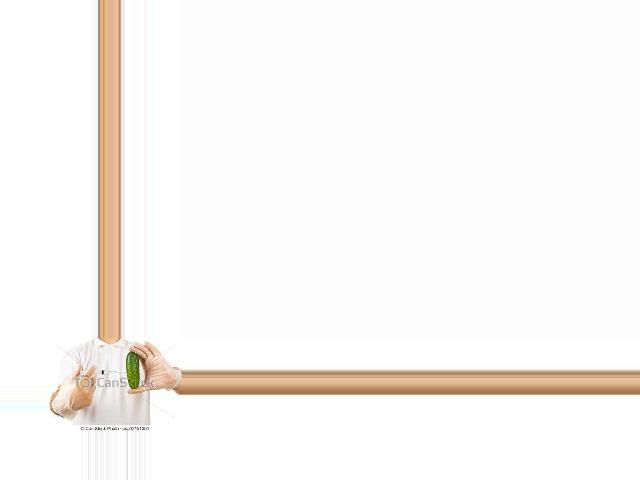cucumber: (127, 351, 140, 390)
